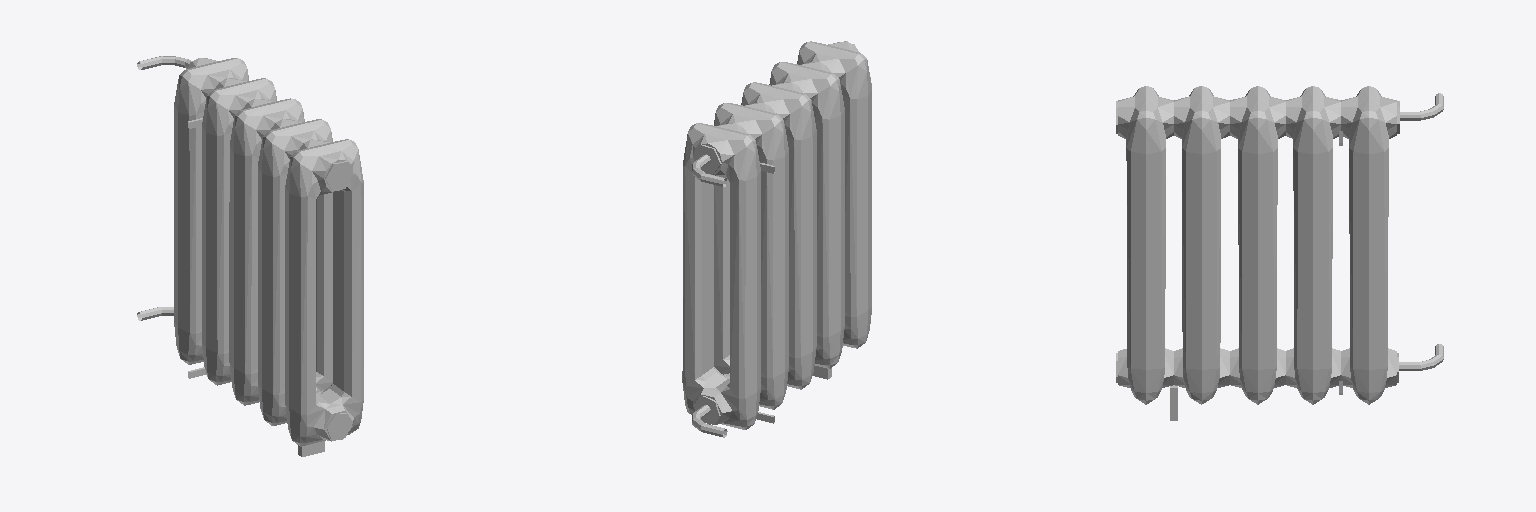
The model's file is Radiator01.obj.
The picture shows the model from 3 angles: view 1: azimuth 30°, elevation 25°; view 2: azimuth 150°, elevation 25°; view 3: azimuth 270°, elevation 25°; orthographic projection.
Visible parts, largest first — view 1: Battery01_LOD0_Battery.004; view 2: Battery01_LOD0_Battery.004; view 3: Battery01_LOD0_Battery.004.
Boxes of the visible parts, x1=… form: Battery01_LOD0_Battery.004: x1=137, y1=56, x2=363, y2=456; Battery01_LOD0_Battery.004: x1=682, y1=41, x2=871, y2=437; Battery01_LOD0_Battery.004: x1=1116, y1=86, x2=1443, y2=420.
Bounding box in the file's own units: 0.184 × 0.7573 × 0.7102.